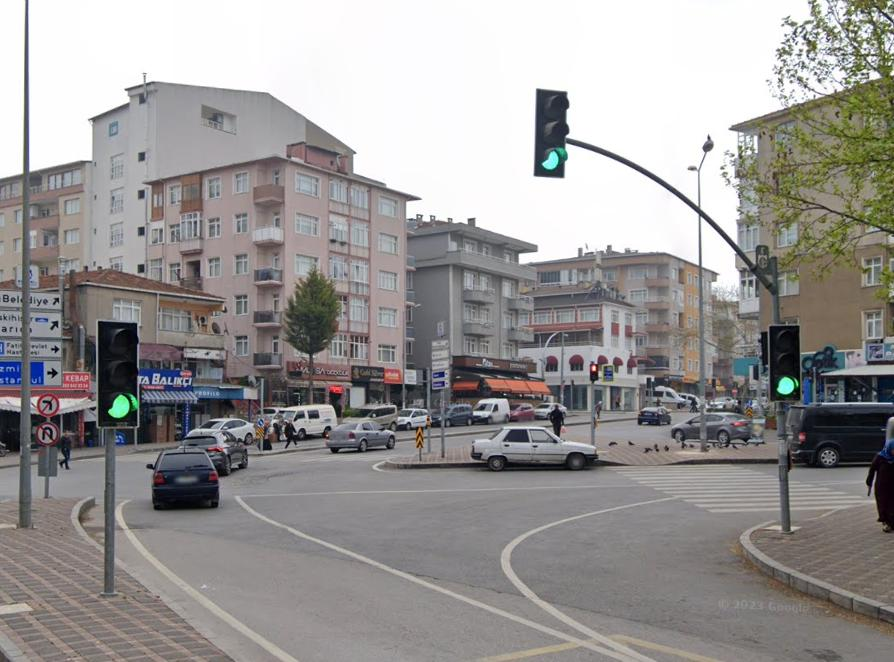greenlight: (96, 319, 142, 429), (768, 326, 807, 403), (537, 89, 567, 174)
